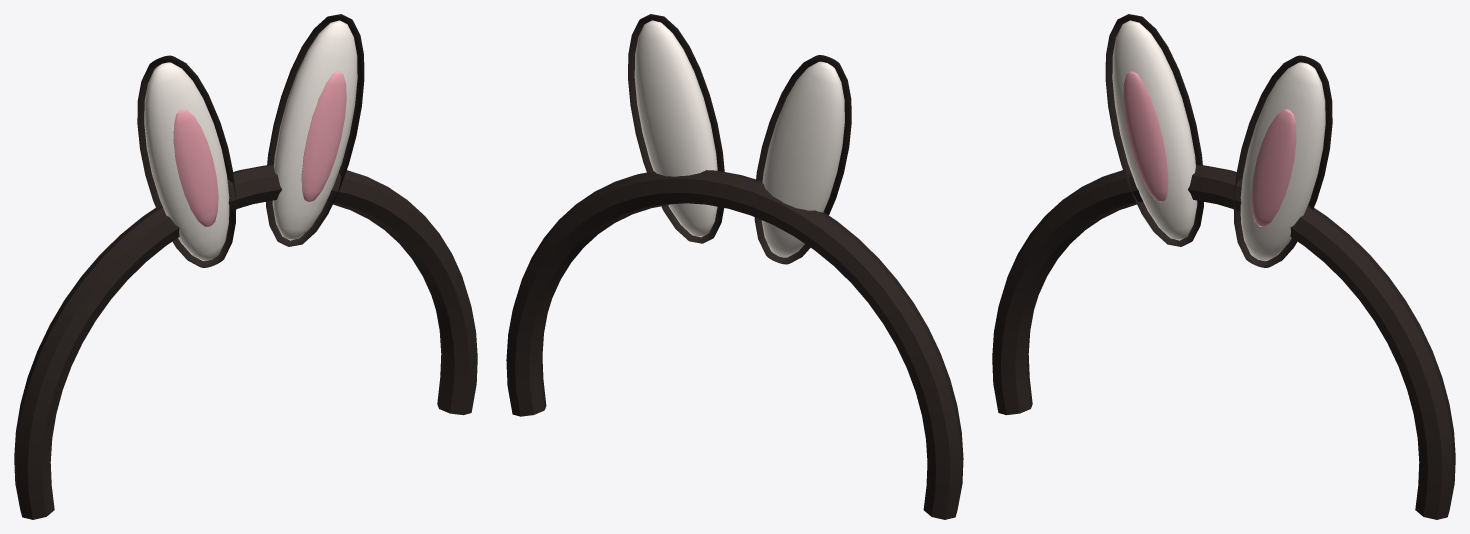
File: hat_bunny.fbx
The picture shows the model from 3 angles, left to right: view 1: azimuth 30°, elevation 25°; view 2: azimuth 150°, elevation 25°; view 3: azimuth 330°, elevation 25°; orthographic projection.
Parts seen in each view (by area): view 1: hat_bunny_Outline, hat_bunny_C_FFF8F0, hat_bunny_C_F4A7B4; view 2: hat_bunny_Outline, hat_bunny_C_FFF8F0; view 3: hat_bunny_Outline, hat_bunny_C_FFF8F0, hat_bunny_C_F4A7B4.
Part boxes in pixels (box(x1,y1,x2,y2)): hat_bunny_Outline: box(14, 14, 477, 519); hat_bunny_C_FFF8F0: box(144, 20, 357, 261); hat_bunny_C_F4A7B4: box(173, 71, 346, 226); hat_bunny_Outline: box(506, 14, 963, 519); hat_bunny_C_FFF8F0: box(634, 20, 844, 257); hat_bunny_Outline: box(992, 14, 1455, 519); hat_bunny_C_FFF8F0: box(1112, 20, 1325, 261); hat_bunny_C_F4A7B4: box(1123, 71, 1296, 226).
Bounding box in the file's own units: 1.08 × 0.963 × 0.118.
